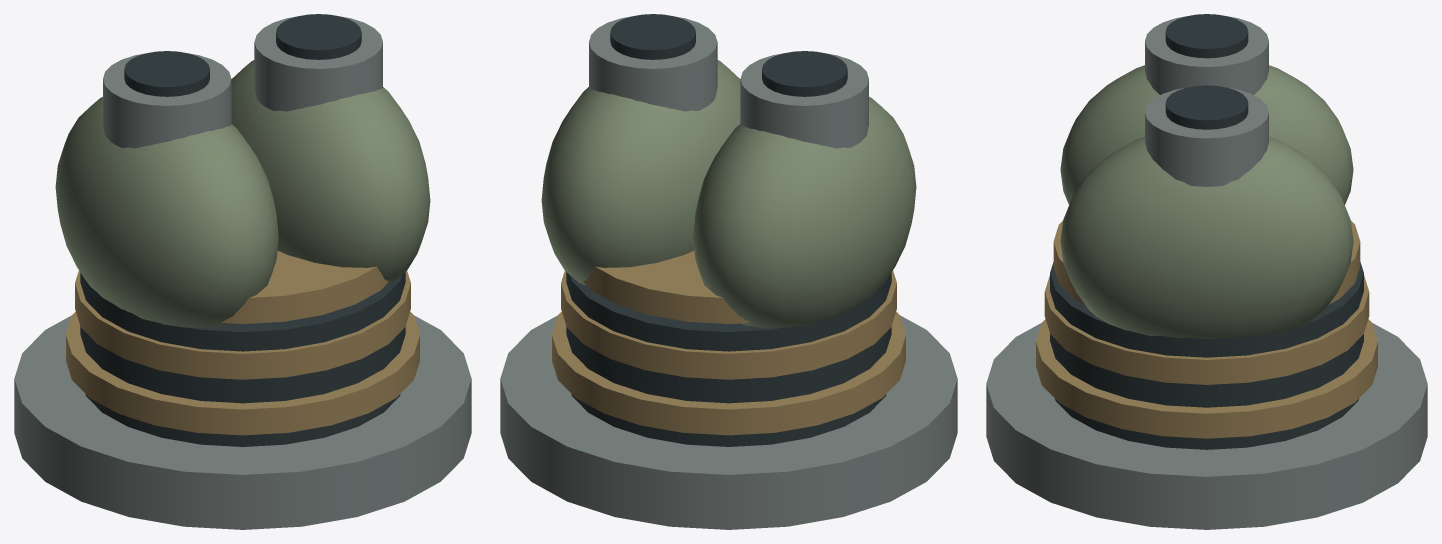
The model's file is warden-machine-hornet-well-v1.glb.
3 renders of one model, left to right at view 1: azimuth 30°, elevation 25°; view 2: azimuth 150°, elevation 25°; view 3: azimuth 270°, elevation 25°, orthographic. The views are drawn at different scales.
Visible parts, largest first — view 1: Hull paint / Housing (×2), Steel / Cylinder (×3), Brass / Cylinder (×3), Dark metal / Cylinder (×3); view 2: Hull paint / Housing (×2), Steel / Cylinder (×3), Brass / Cylinder (×3), Dark metal / Cylinder (×3); view 3: Hull paint / Housing (×2), Steel / Cylinder (×3), Brass / Cylinder (×3), Dark metal / Cylinder (×3).
Part boxes in pixels (left/top/right/bottom): Hull paint / Housing (×2): left=55, top=60, right=430, bottom=327; Steel / Cylinder (×3): left=14, top=16, right=471, bottom=529; Brass / Cylinder (×3): left=66, top=251, right=419, bottom=435; Dark metal / Cylinder (×3): left=80, top=14, right=405, bottom=446; Hull paint / Housing (×2): left=541, top=60, right=916, bottom=327; Steel / Cylinder (×3): left=500, top=16, right=957, bottom=529; Brass / Cylinder (×3): left=552, top=251, right=905, bottom=435; Dark metal / Cylinder (×3): left=566, top=14, right=891, bottom=446; Hull paint / Housing (×2): left=1060, top=65, right=1353, bottom=338; Steel / Cylinder (×3): left=986, top=16, right=1427, bottom=529; Brass / Cylinder (×3): left=1036, top=221, right=1377, bottom=438; Dark metal / Cylinder (×3): left=1050, top=14, right=1363, bottom=449.
Size of the model in its own units: 0.192 by 0.1774 by 0.192.
